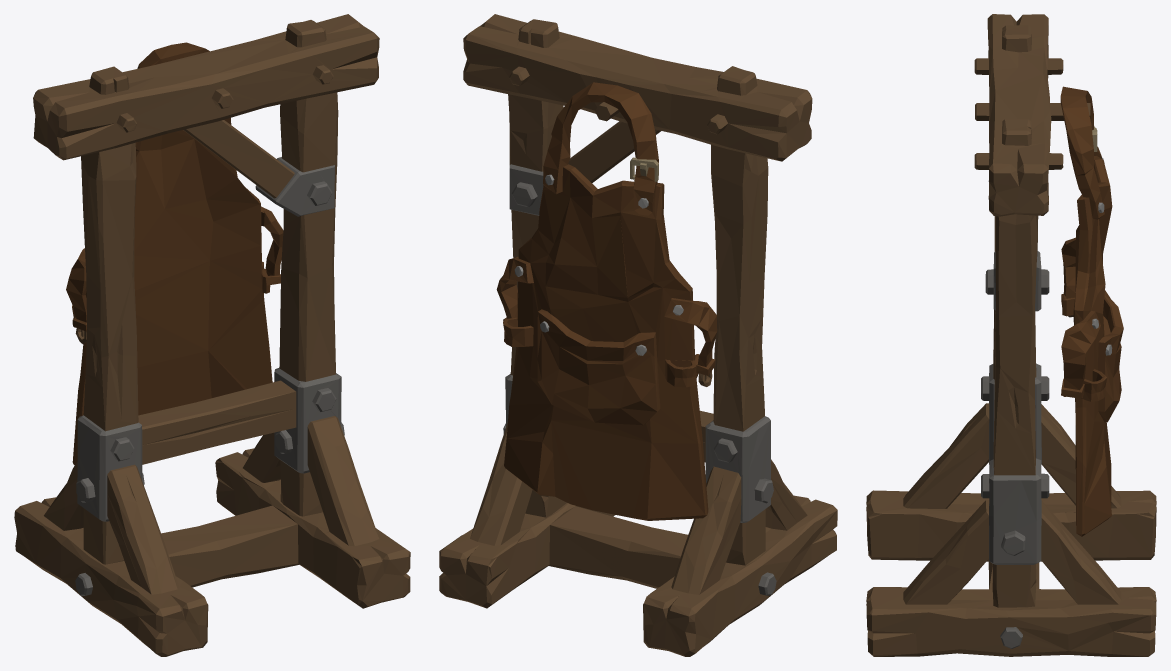
Rendered from LeatherApronStand.fbx.
The picture shows the model from 3 angles, left to right: view 1: azimuth 30°, elevation 25°; view 2: azimuth 150°, elevation 25°; view 3: azimuth 270°, elevation 25°; orthographic projection.
Visible parts, largest first — view 1: LeatherApronStand; view 2: LeatherApronStand; view 3: LeatherApronStand.
Boxes of the visible parts, box(x1,y1,x2,y2) form: LeatherApronStand: box(14, 14, 410, 656); LeatherApronStand: box(439, 14, 837, 656); LeatherApronStand: box(866, 14, 1156, 656).
Size of the model in its own units: 1.02 by 0.8085 by 1.6.
